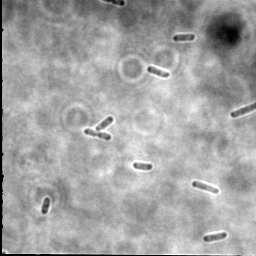Dividing: (83, 128, 112, 142)
Rod: (191, 179, 221, 196), (230, 102, 255, 119), (94, 114, 115, 132), (146, 64, 171, 79), (203, 230, 228, 243), (172, 33, 196, 43), (132, 161, 153, 171), (41, 196, 51, 215)
